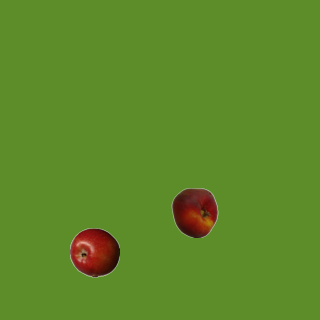Apple Braeburn: (69, 227, 119, 277)
Nectarine Flat: (169, 187, 219, 237)
